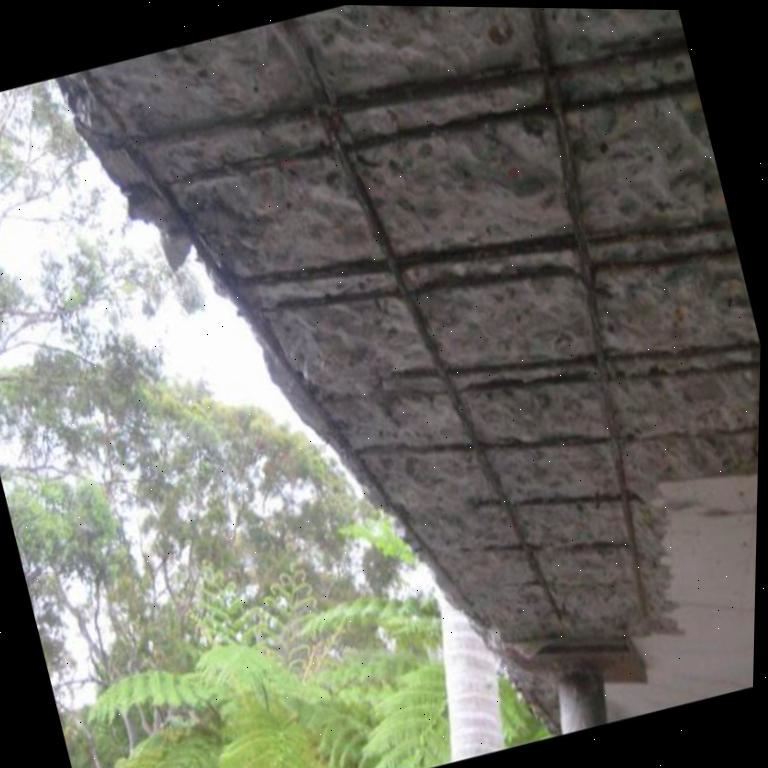exposed_rebar: (80, 74, 493, 625), (284, 23, 561, 627), (529, 8, 651, 619), (119, 40, 681, 152), (152, 80, 698, 193), (230, 216, 733, 289), (271, 248, 736, 316), (364, 339, 761, 386), (385, 356, 760, 402)
spalling: (52, 5, 761, 737)
